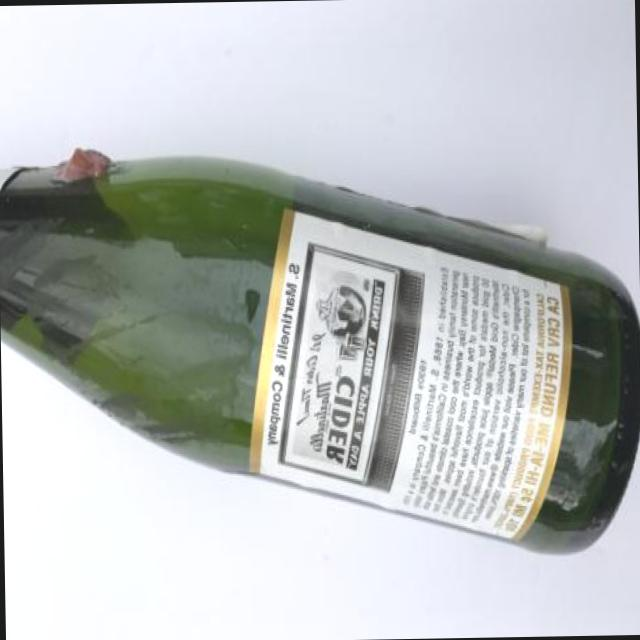chai_thuy_tinh: (0, 147, 640, 554)
giay: (249, 209, 570, 541)
